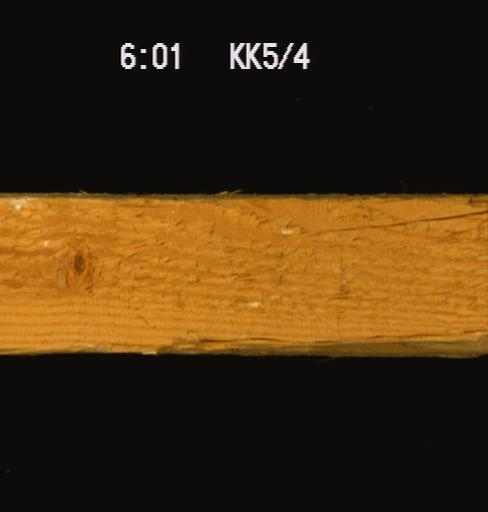small_knot: (65, 242, 94, 282)
split: (306, 207, 486, 239)
wave: (150, 324, 486, 353)
